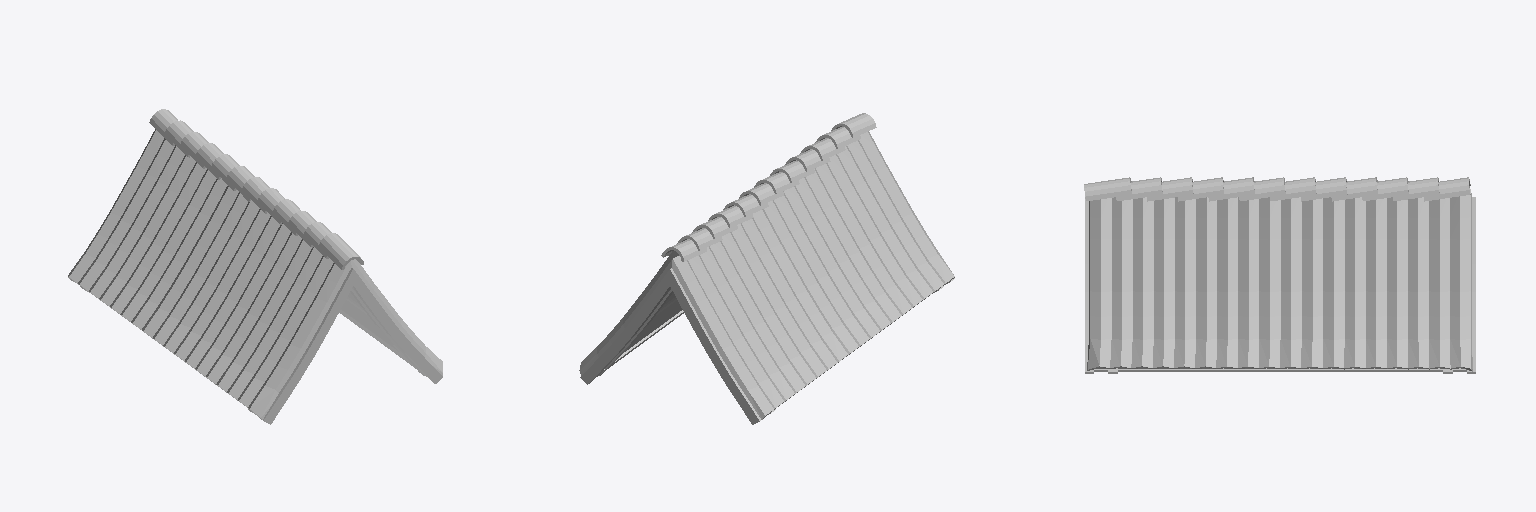
Rendered from Roof_RoundTiles_4x8.obj.
3 renders of one model, left to right at view 1: azimuth 30°, elevation 25°; view 2: azimuth 150°, elevation 25°; view 3: azimuth 270°, elevation 25°, orthographic.
Parts seen in each view (by area): view 1: Roof_RoundTiles_4x8; view 2: Roof_RoundTiles_4x8; view 3: Roof_RoundTiles_4x8.
Part boxes in pixels (left/top/right/bottom): Roof_RoundTiles_4x8: left=68, top=109, right=442, bottom=424; Roof_RoundTiles_4x8: left=579, top=113, right=954, bottom=424; Roof_RoundTiles_4x8: left=1084, top=177, right=1475, bottom=373.
Size of the model in its own units: 5.51 by 4.23 by 9.68.